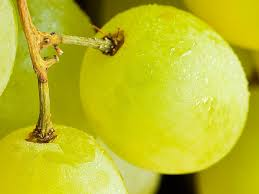Green grapes: (78, 2, 248, 176)
